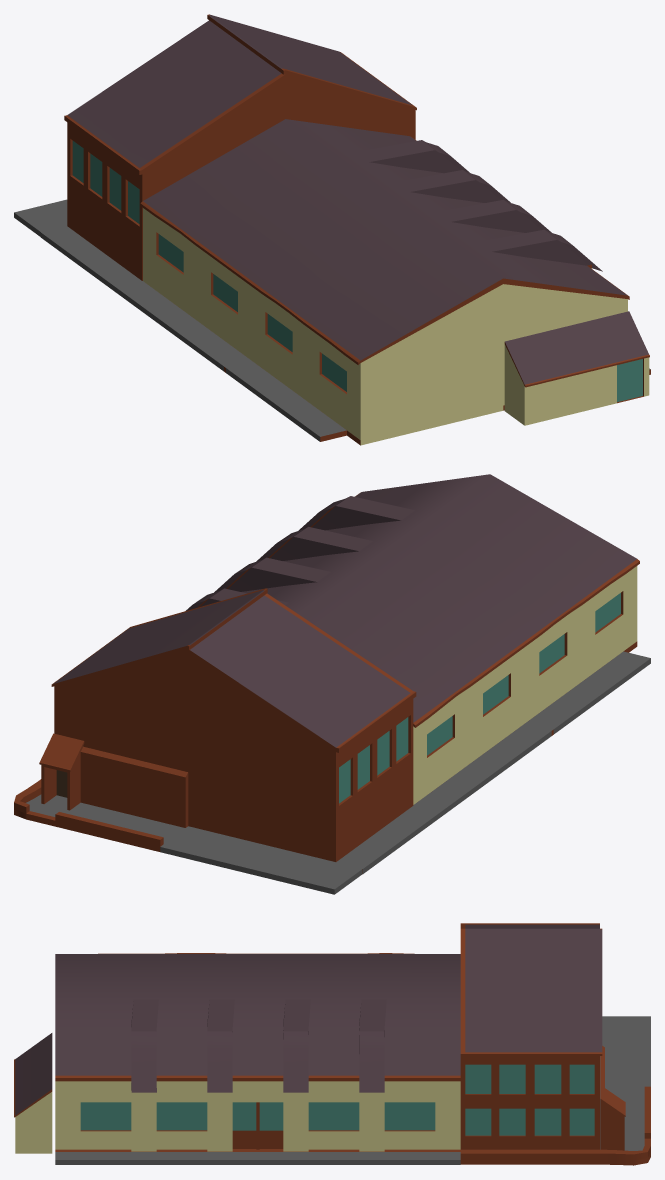
File: HouseBlock1-1.fbx
3 renders of one model, top to bottom at view 1: azimuth 30°, elevation 25°; view 2: azimuth 150°, elevation 25°; view 3: azimuth 270°, elevation 25°, orthographic. The views are drawn at different scales.
Visible parts, largest first — view 1: pCube5.001; view 2: pCube5.001; view 3: pCube5.001.
Part boxes in pixels (bbox=[...]): pCube5.001: bbox=[14, 14, 650, 445]; pCube5.001: bbox=[14, 474, 650, 894]; pCube5.001: bbox=[14, 923, 650, 1165].
Size of the model in its own units: 26.95 by 14.64 by 50.19.
